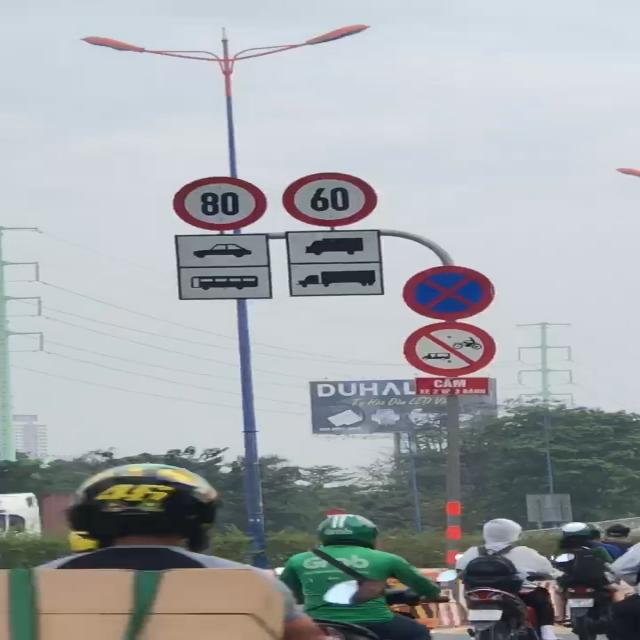Bien bao cam dung xe va do xe: (402, 263, 498, 320)
Bien bao toc do toi da cho phep: (170, 174, 274, 231), (279, 170, 377, 228)
